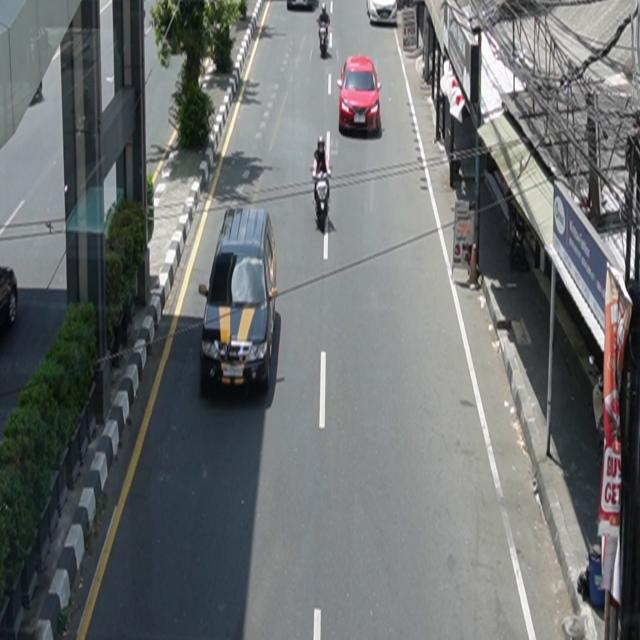car: (199, 206, 279, 395), (338, 55, 383, 136), (1, 266, 19, 330), (367, 1, 398, 26), (288, 1, 314, 11)
